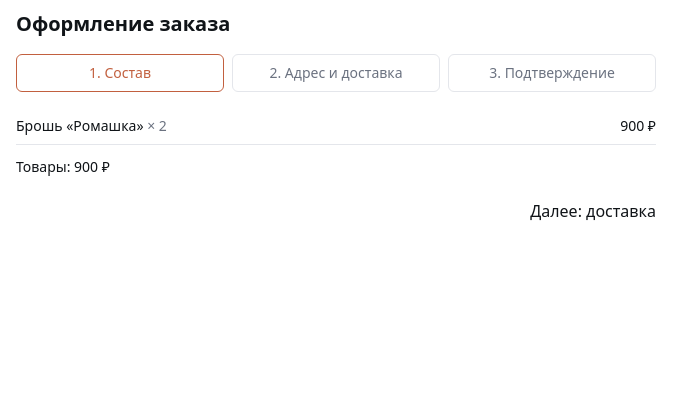
CheckoutPage — итог заказа › создаёт заказ без доставки и показывает только сумму товаров
Click the button "Далее: доставка".
click(593, 211)  # box [530,189,656,233]
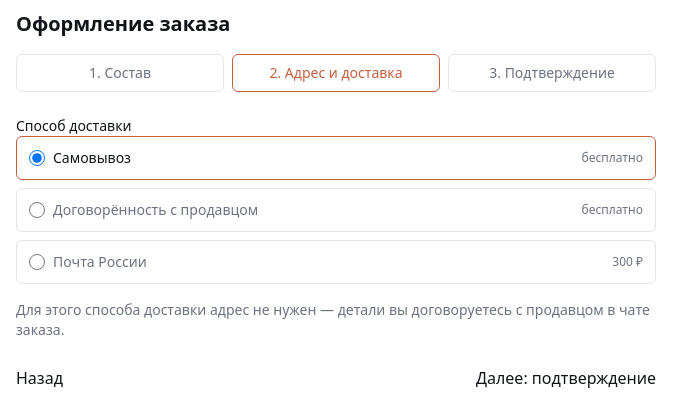
Click the button "Далее: подтверждение".
click(566, 378)  # box [476,356,656,400]
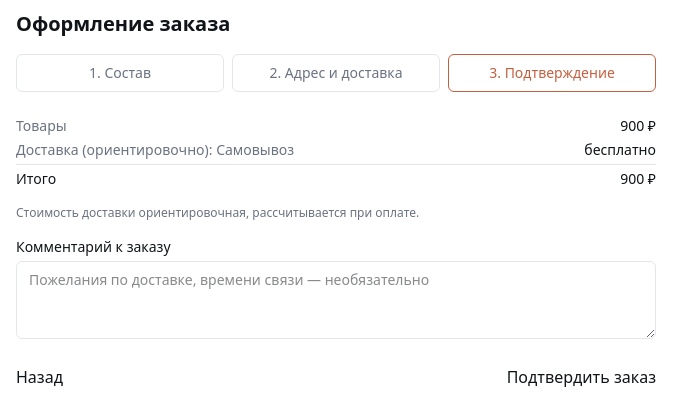
Click the button "Подтвердить заказ".
click(581, 377)  # box [507,355,656,399]
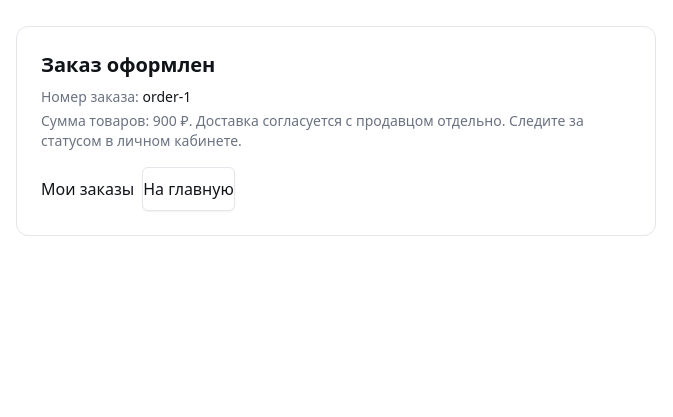
Check: the heading "Заказ оформлен" is shown, box [41,51,215,78]
Check: the text "Сумма товаров" shows "900", box [153,111,189,130]
